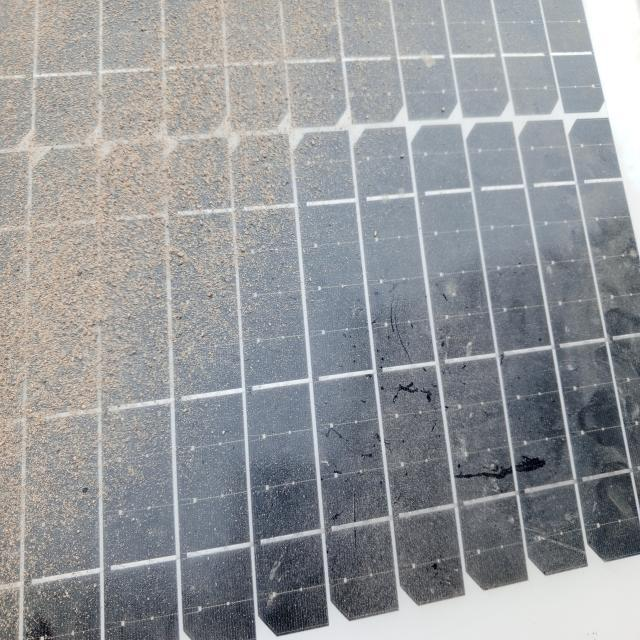Anomaly Solar Panel: (4, 2, 639, 636)
Surface Contaminant: (114, 0, 639, 639)
